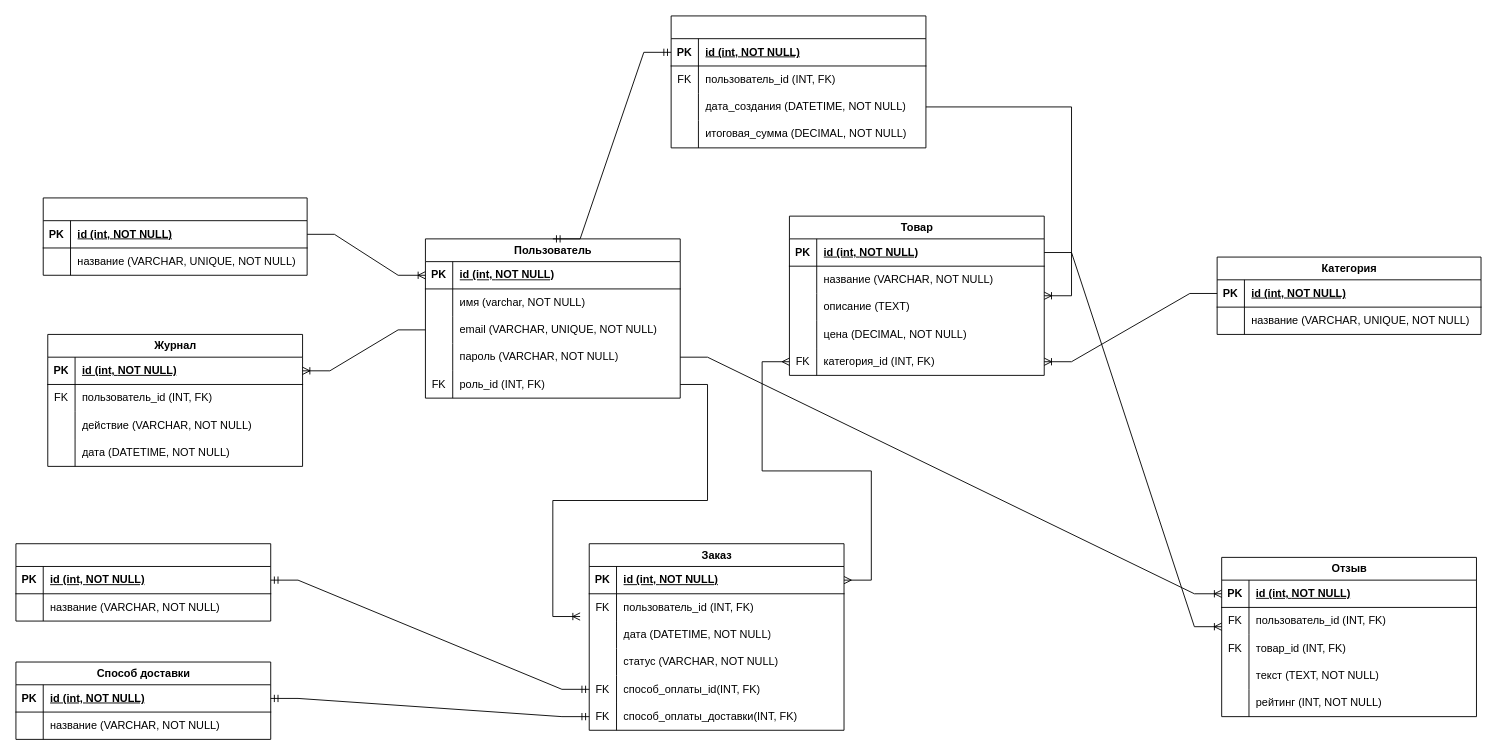
This 1497x755 diagram has some shape labels left out. The box of each missing label's shape, as (x1, y1, x2, y2) in pixels:
Корзина: (670, 15, 926, 148)
Роль: (42, 197, 307, 275)
Способ оплаты: (15, 543, 271, 621)
